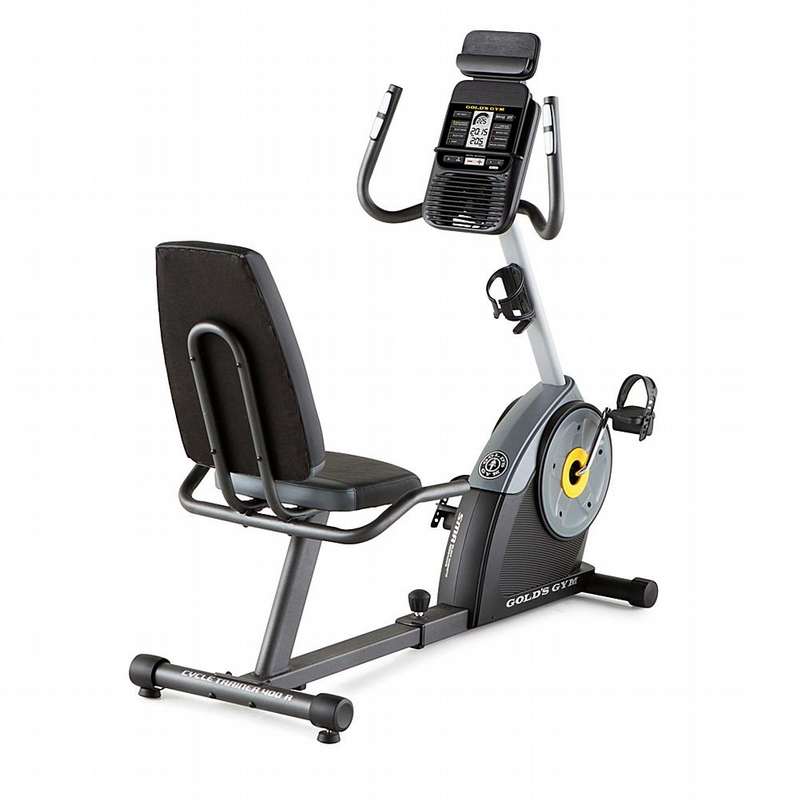gym_bike: (111, 33, 677, 755)
